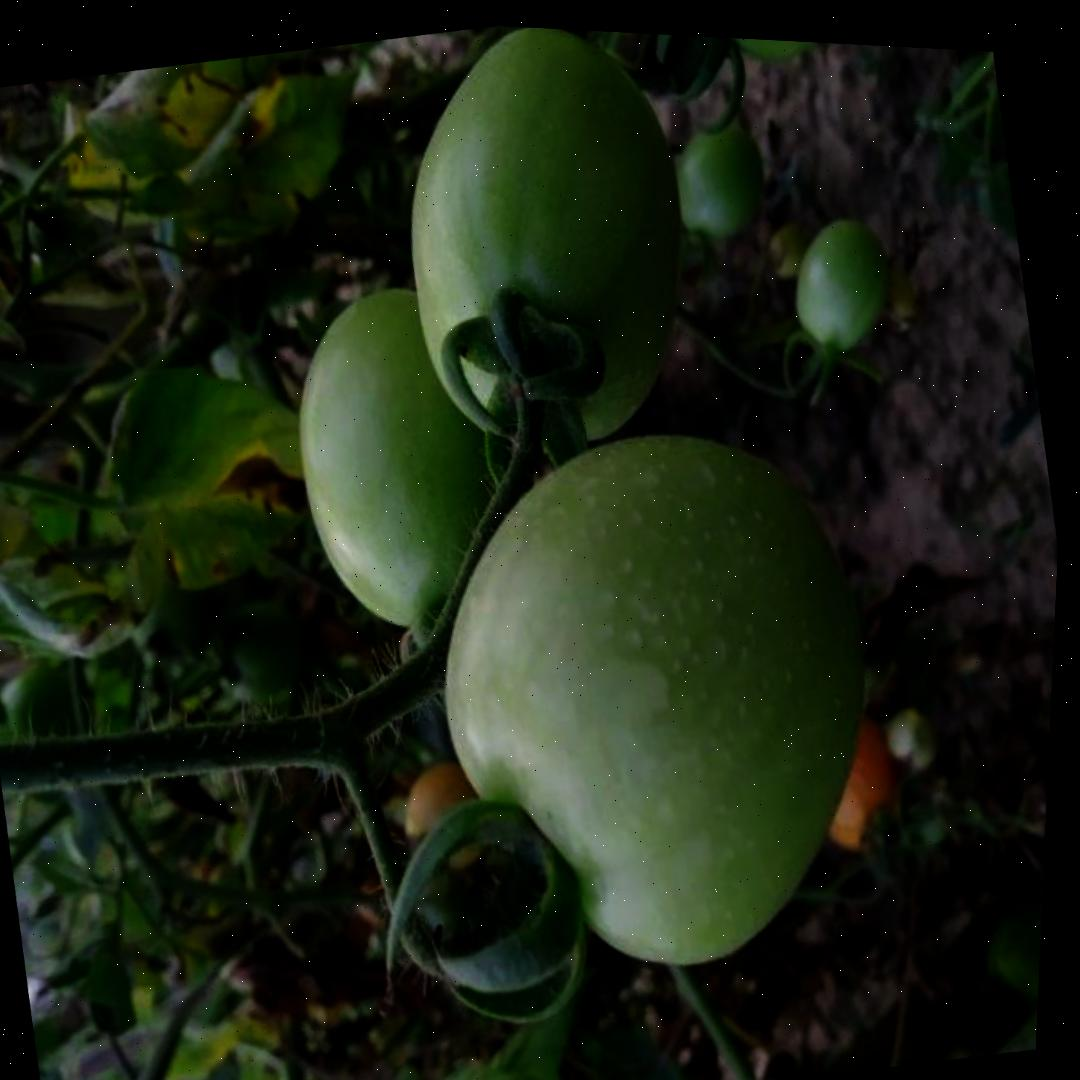mentah: (390, 388, 923, 1012), (358, 20, 725, 477), (262, 262, 564, 660), (776, 206, 901, 365), (656, 114, 772, 251)
